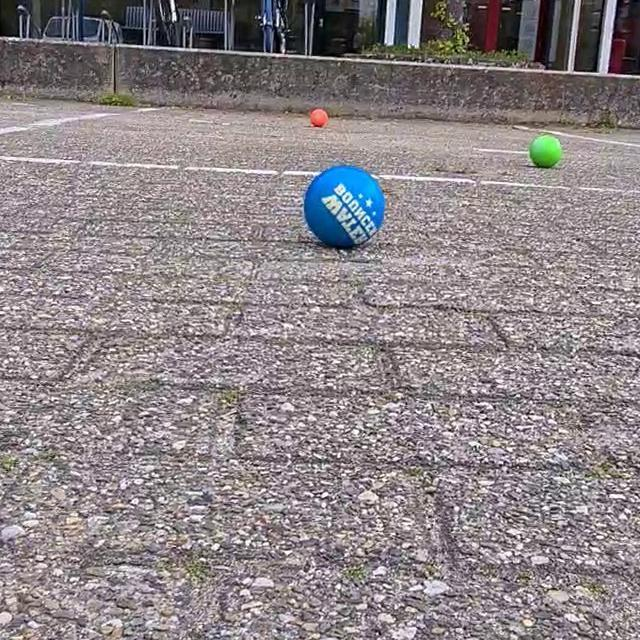ball: (526, 132, 564, 169), (308, 105, 330, 130)
